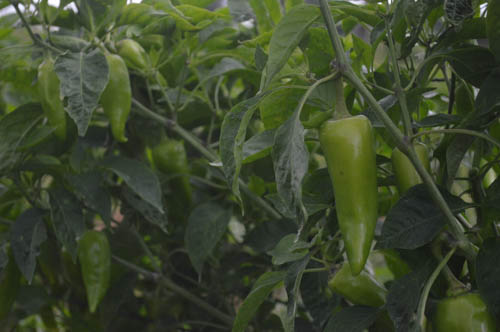ChiliPepper: (320, 115, 375, 274), (100, 54, 132, 141), (79, 229, 112, 313), (394, 144, 433, 207), (38, 63, 69, 136), (333, 263, 383, 304), (157, 140, 187, 197), (442, 294, 486, 332)
